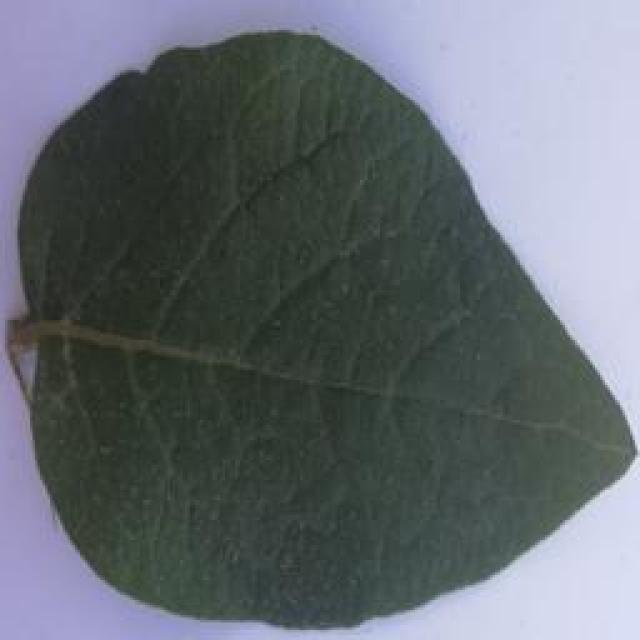Potato_Healthy: (12, 31, 625, 627)
